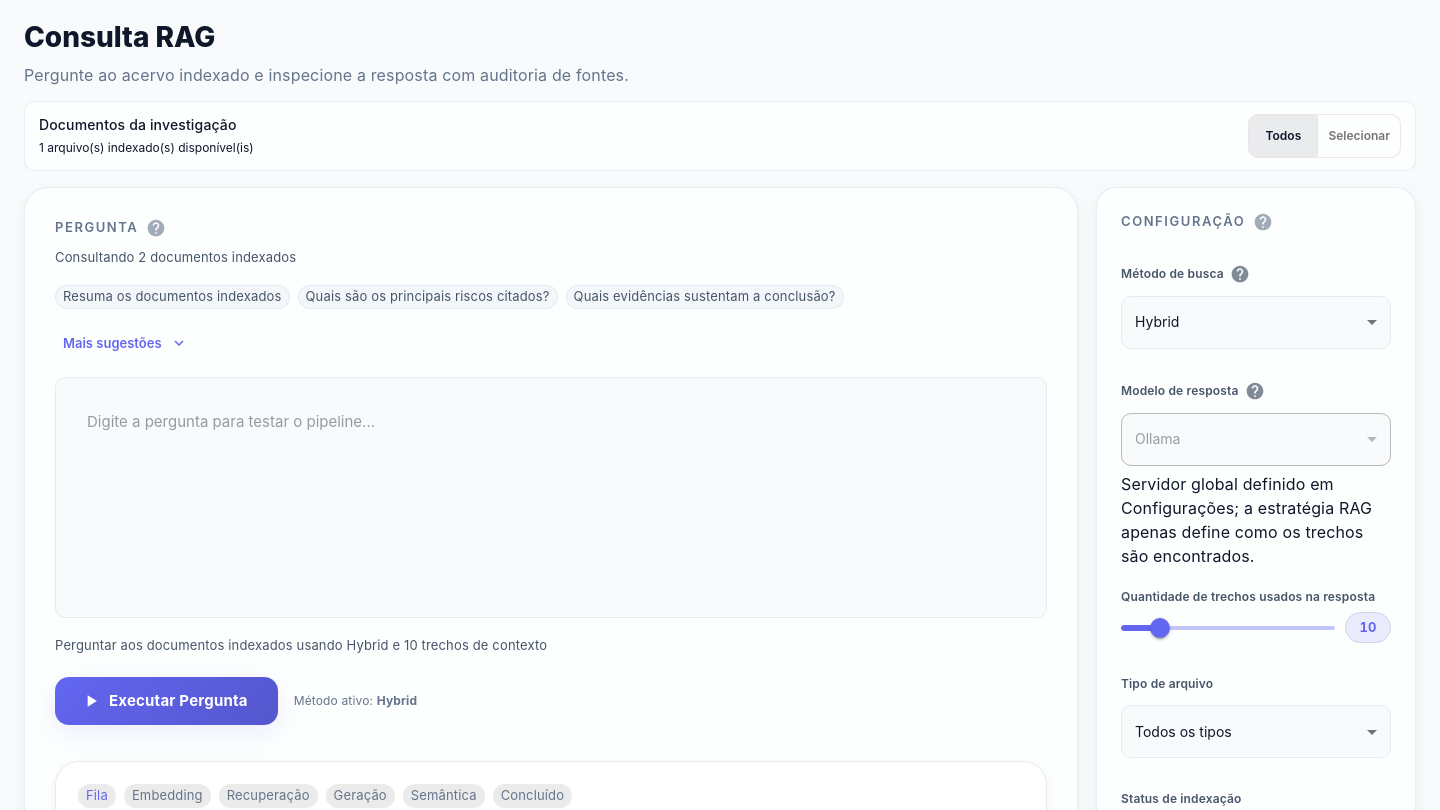
Test: QueryPage pending feedback › validates an empty question and clears the error when a suggestion is selected
Click the button "Executar Pergunta" at (166, 701), box [55, 677, 278, 725]
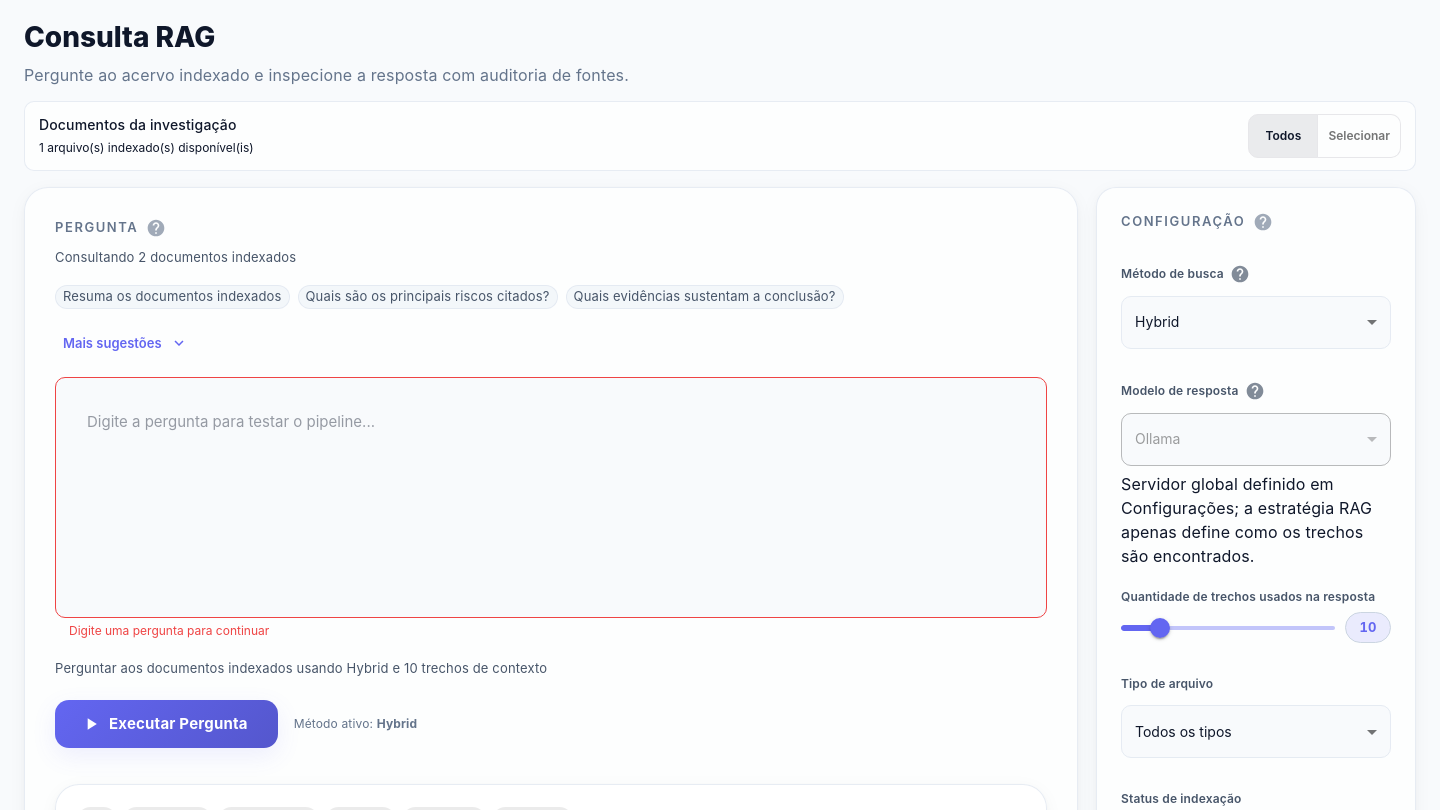
Now the text "Digite uma pergunta para continuar" is shown, box [69, 623, 269, 638]
Click the button "Quais são os principais riscos citados?" at (428, 297), box [298, 285, 558, 309]
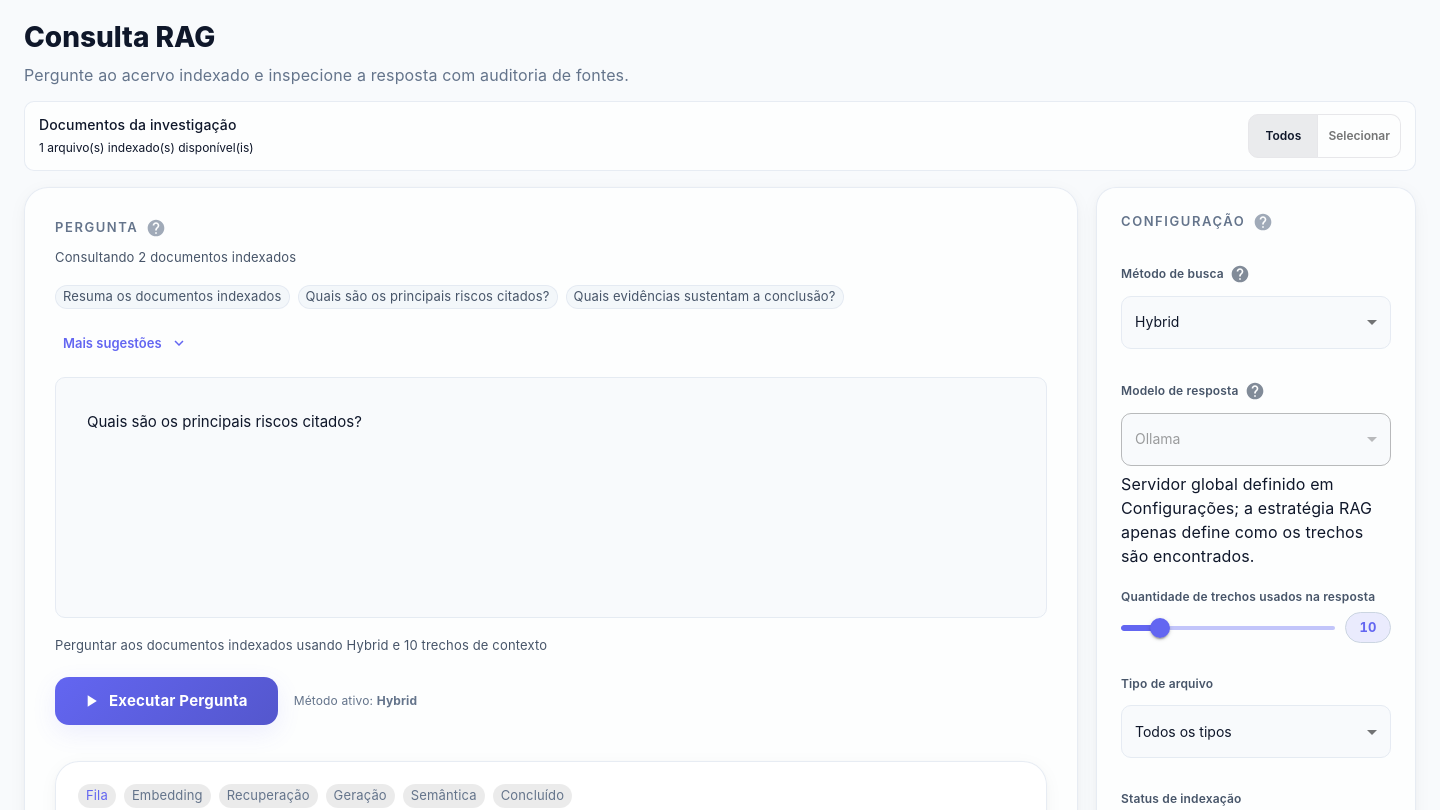
Now the text box with placeholder "Digite a pergunta para testar o pipeline..." holds "Quais são os principais riscos citados?", box [69, 394, 1033, 602]
Now the text "Digite uma pergunta para continuar" is gone
